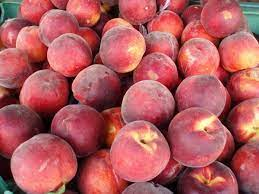peach: (12, 132, 83, 194), (109, 120, 170, 183), (168, 109, 230, 169), (175, 72, 227, 119), (121, 79, 175, 123), (1, 102, 41, 159), (20, 65, 67, 112), (101, 26, 146, 75), (46, 33, 93, 74), (177, 36, 219, 76), (201, 2, 242, 42), (220, 32, 259, 70), (1, 48, 34, 91), (229, 100, 259, 147), (17, 26, 48, 64)
